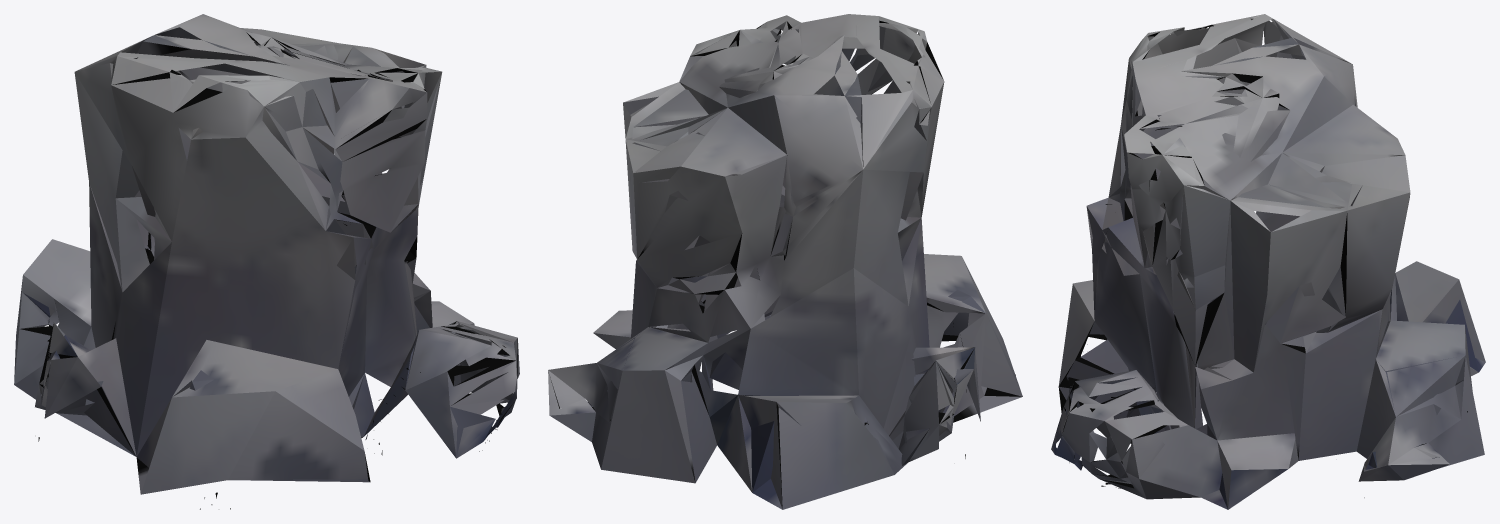
File: cliff_rock_lod0.glb
The picture shows the model from 3 angles, left to right: view 1: azimuth 30°, elevation 25°; view 2: azimuth 150°, elevation 25°; view 3: azimuth 270°, elevation 25°; orthographic projection. The views are drawn at different scales.
Visible parts, largest first — view 1: low; view 2: low; view 3: low.
Part boxes in pixels (x1=…): low: x1=14, y1=14, x2=519, y2=509; low: x1=548, y1=14, x2=1022, y2=509; low: x1=1051, y1=14, x2=1485, y2=509.
Size of the model in its own units: 3.88 by 3.48 by 3.87.
Materials: 1 (1 with a texture image).
